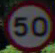Speed limit: (4, 3, 49, 45)
